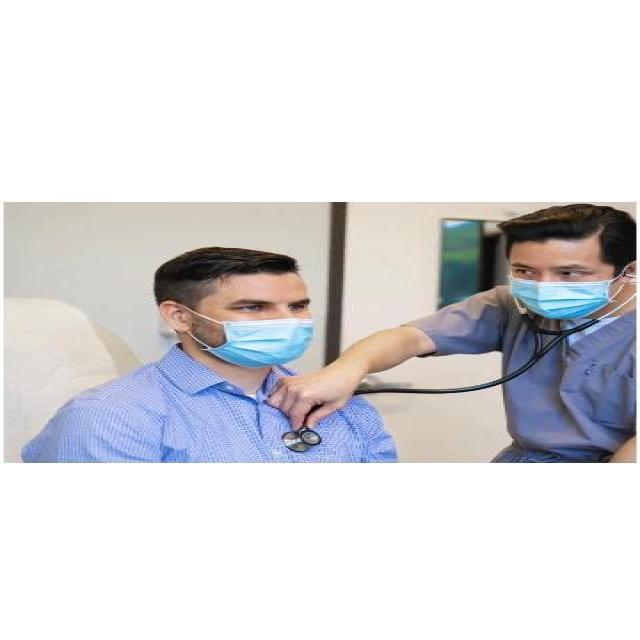bare_hand: (268, 362, 388, 422)
